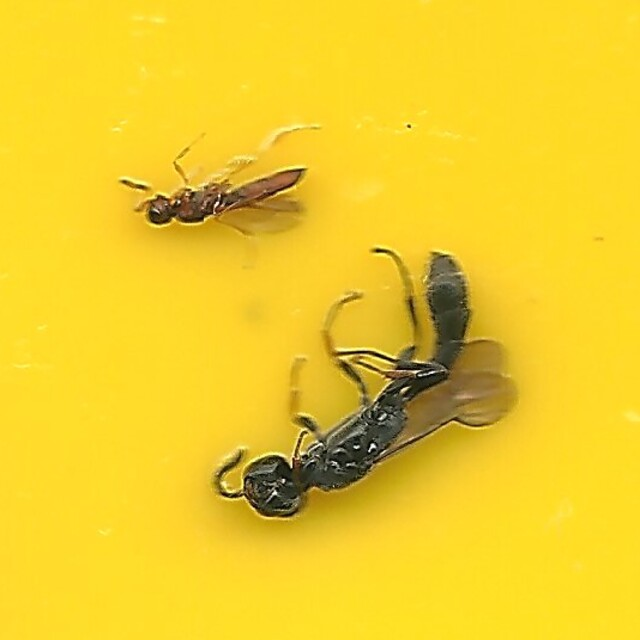Hymenoptera: (210, 245, 520, 521), (120, 119, 319, 245)
